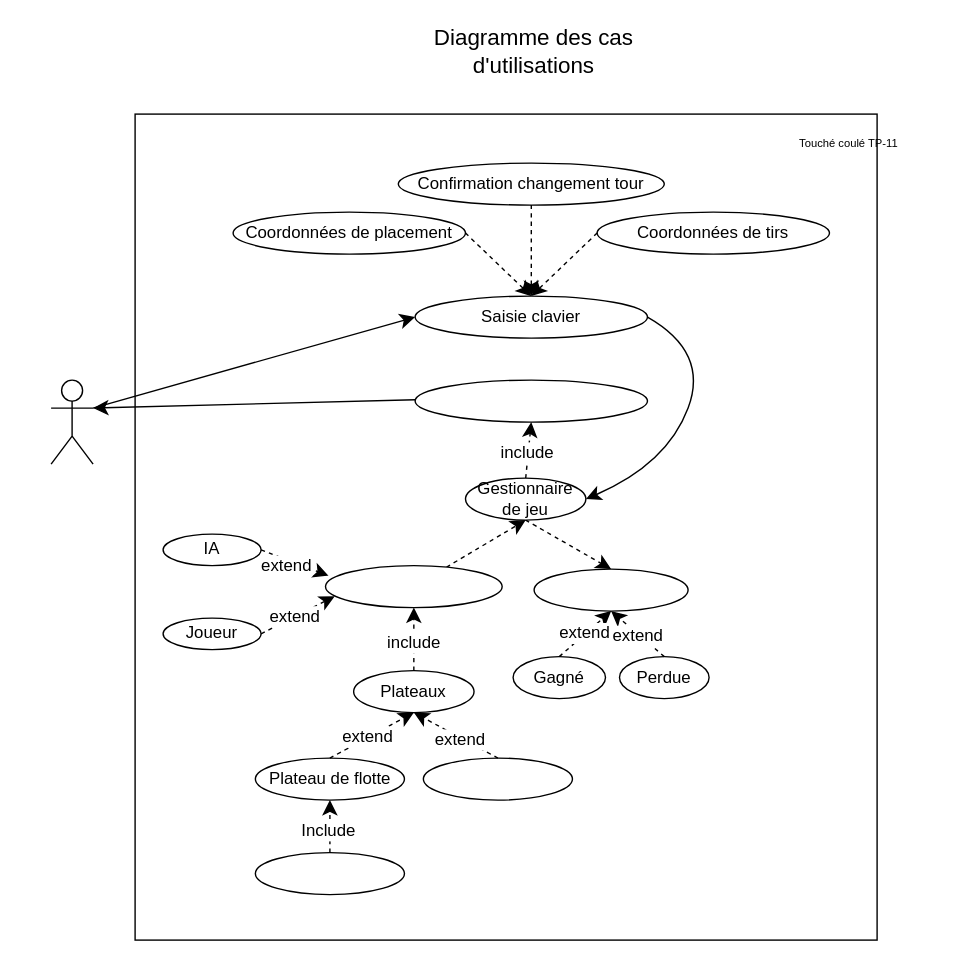
Some shapes in this 972 by 965 pixel diagram are drawn without their labels. The shapes that lost their labels are listed below. From the top down, each one's centre as x and y in pixels, then its label:
the point at 531,400: Affichage écran
the point at 71,421: JOUEUR 1/2
the point at 413,586: Contrôleur de joueurs
the point at 610,589: Statut partie
the point at 497,778: Plateau de tirs
the point at 329,873: Bateaux
